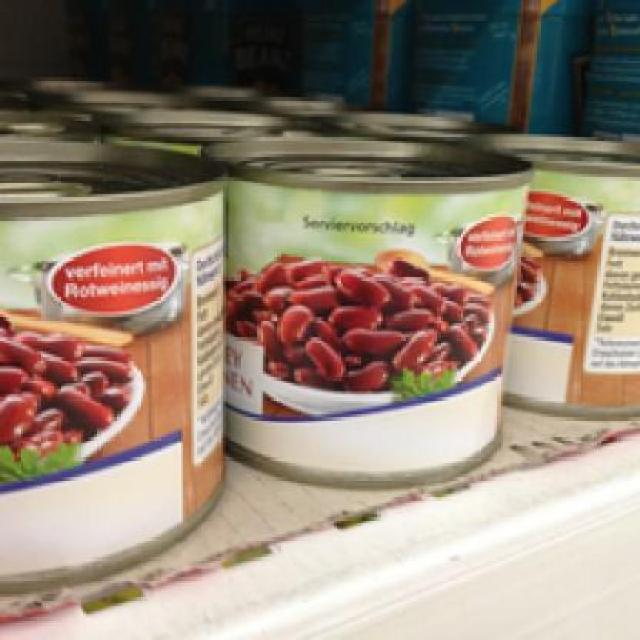Beans: (214, 134, 537, 492), (0, 145, 203, 598)
